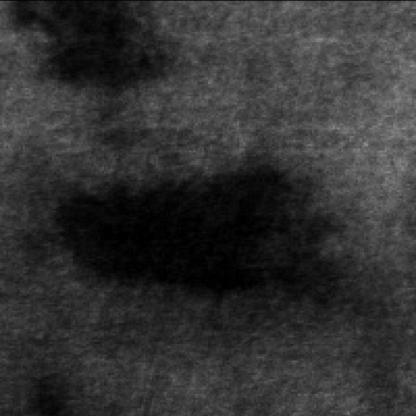patches: (56, 160, 343, 308), (15, 2, 172, 96)
